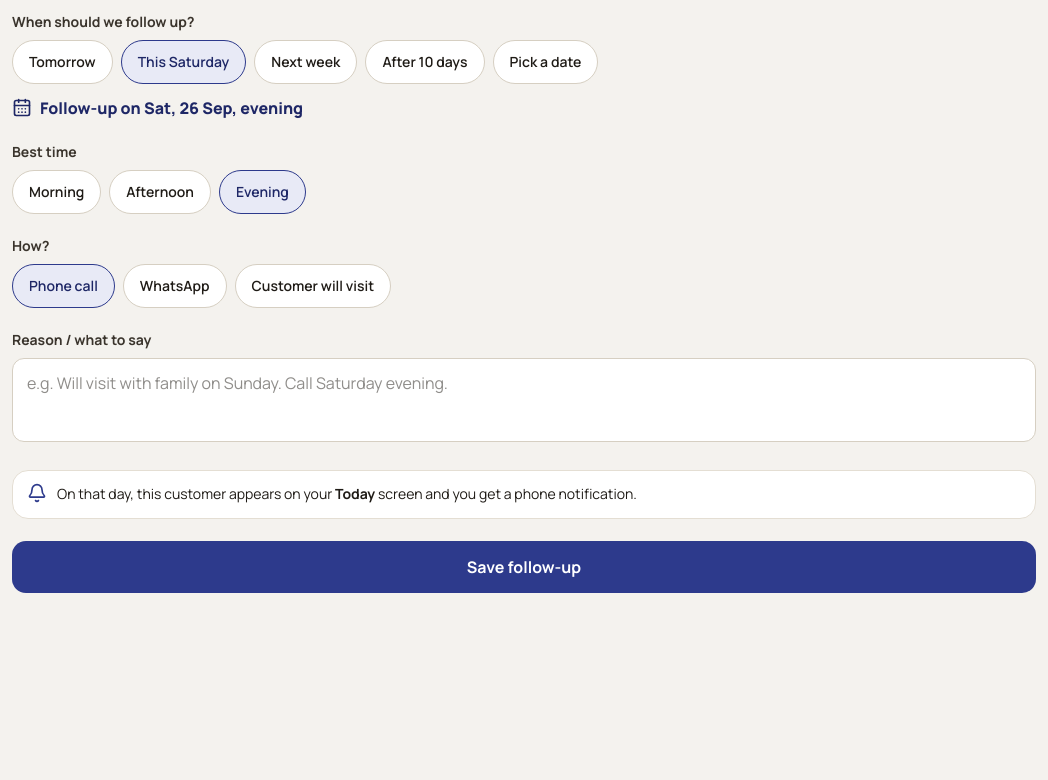
FollowUpForm › offers a date picker that starts at today
Click the radio button labelled "Pick a date".
click(545, 62)  # box [492,40,598,84]
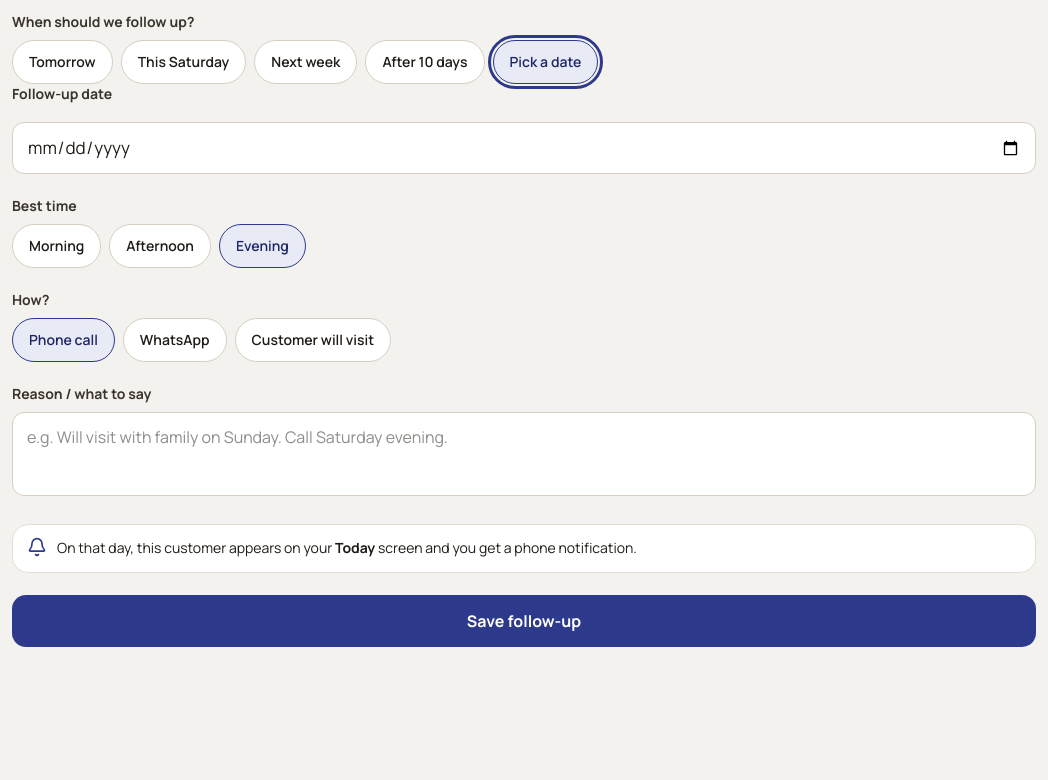
Click the button "Save follow-up".
click(524, 621)  # box [12,595,1036,647]
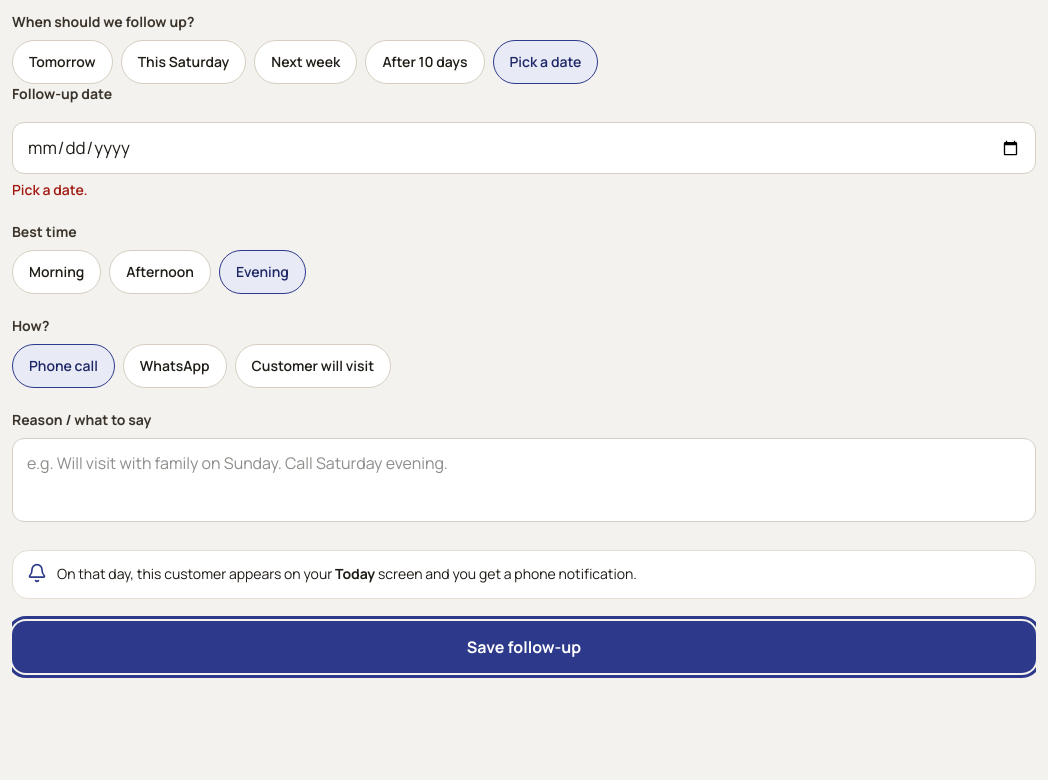
Result: the text "Pick a date." is shown at [12,180,88,199]
